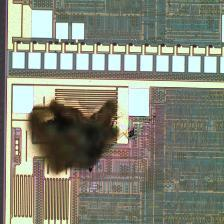PARTICLE: (26, 98, 142, 178)
